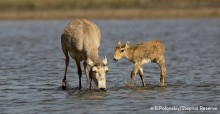saiga: (59, 18, 111, 97), (113, 38, 168, 88)
